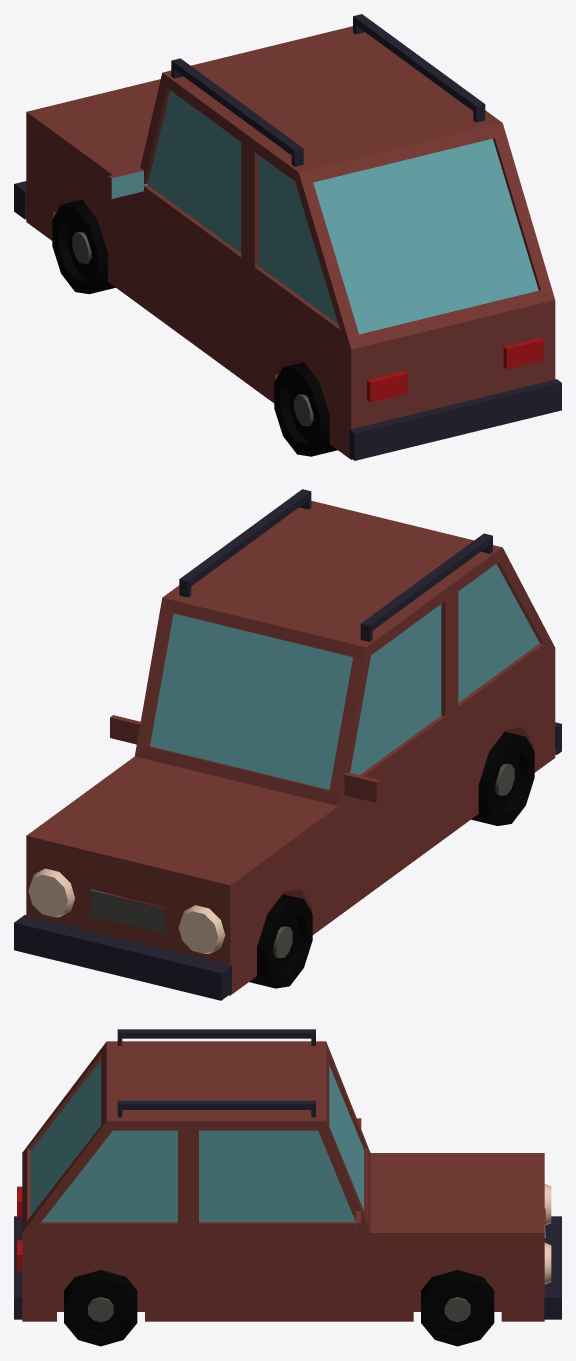
File: car_2_.fbx
The picture shows the model from 3 angles, top to bottom: view 1: azimuth 30°, elevation 25°; view 2: azimuth 150°, elevation 25°; view 3: azimuth 270°, elevation 25°; orthographic projection. The views are drawn at different scales.
Visible parts, largest first — view 1: car 2; view 2: car 2; view 3: car 2.
Boxes of the visible parts, x1,y1,x2,y2 form: car 2: (14,14,561,460); car 2: (14,489,561,1000); car 2: (14,1029,561,1346).
Bounding box in the file's own units: 199 × 210 × 440.
